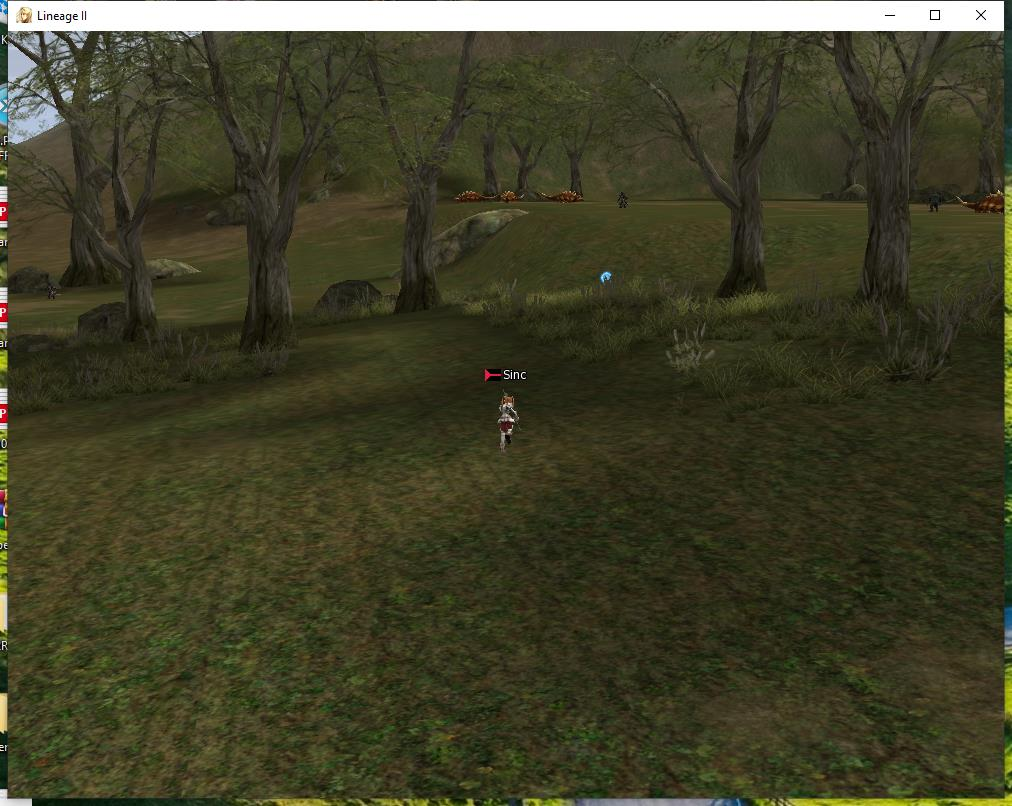monster: (968, 185, 1002, 215), (545, 186, 587, 201), (927, 189, 948, 215), (496, 190, 524, 208), (617, 190, 632, 206)
